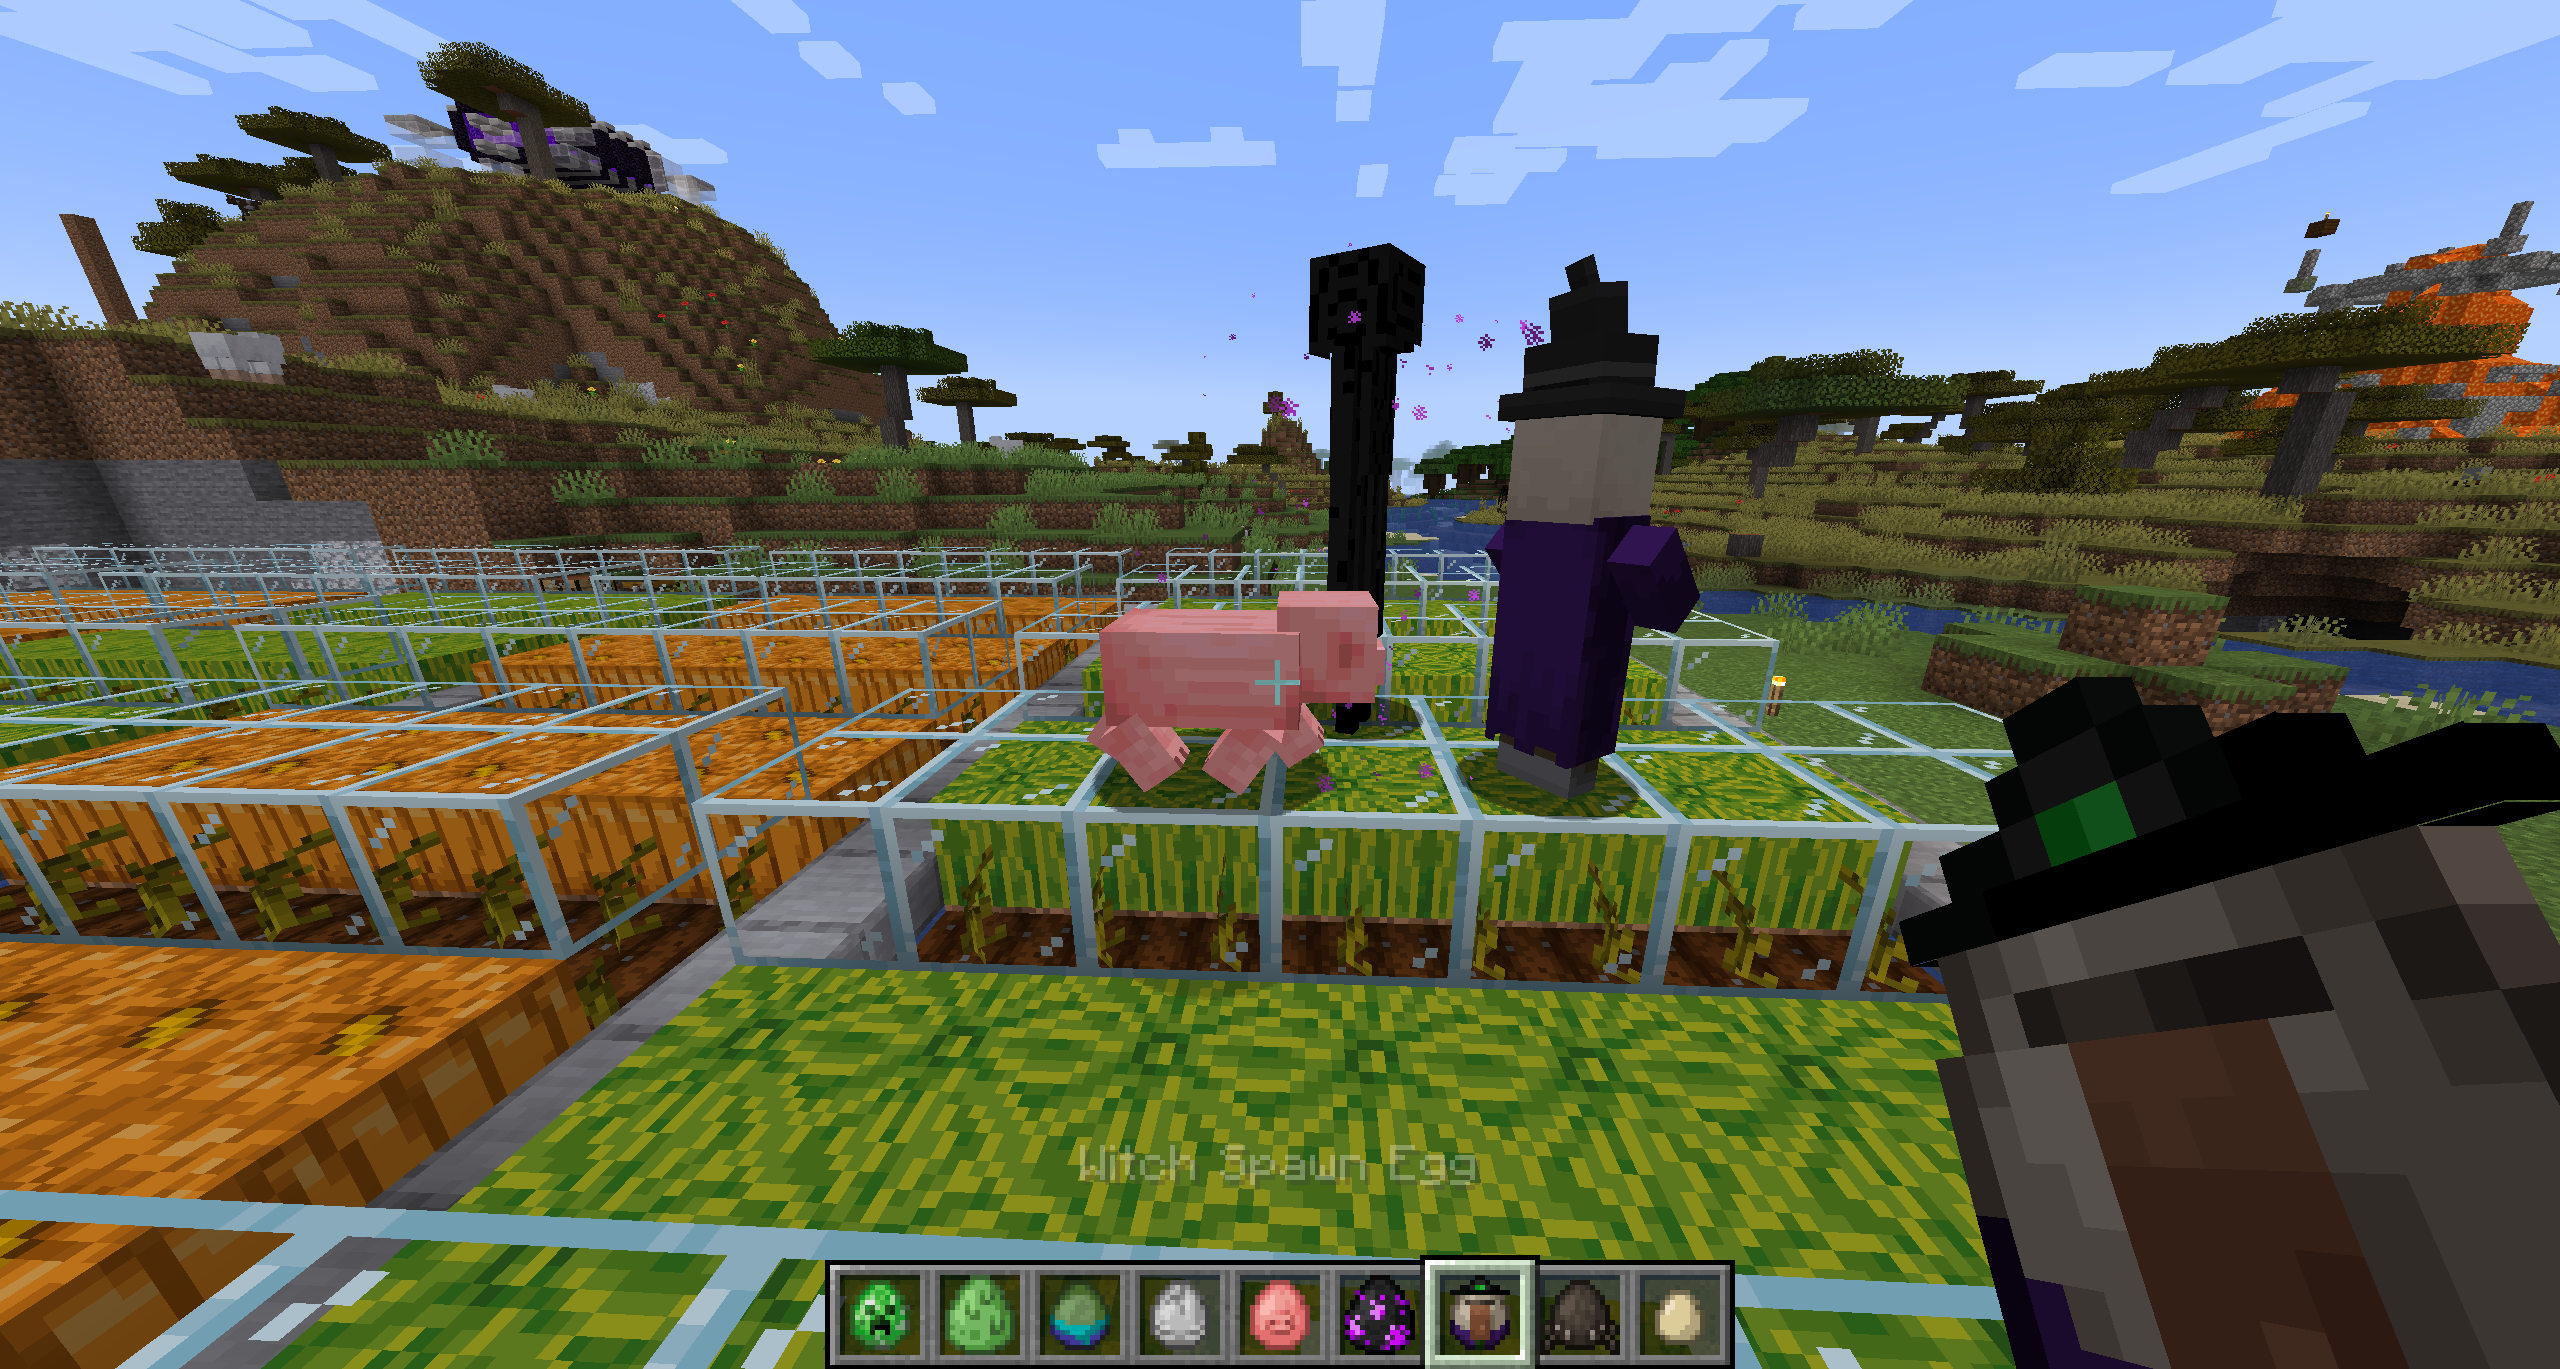cochons: (1094, 597, 1365, 785)
endermens: (1307, 244, 1417, 724)
sorcieres: (1485, 278, 1629, 792)
